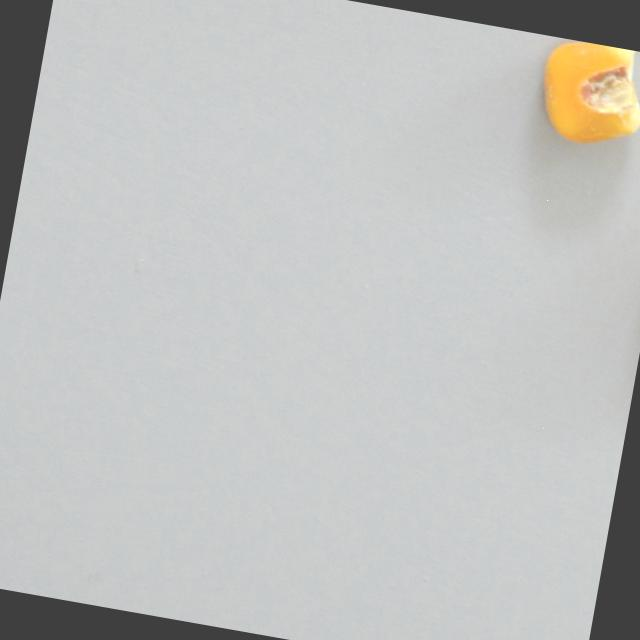dañado: (526, 35, 640, 159)
